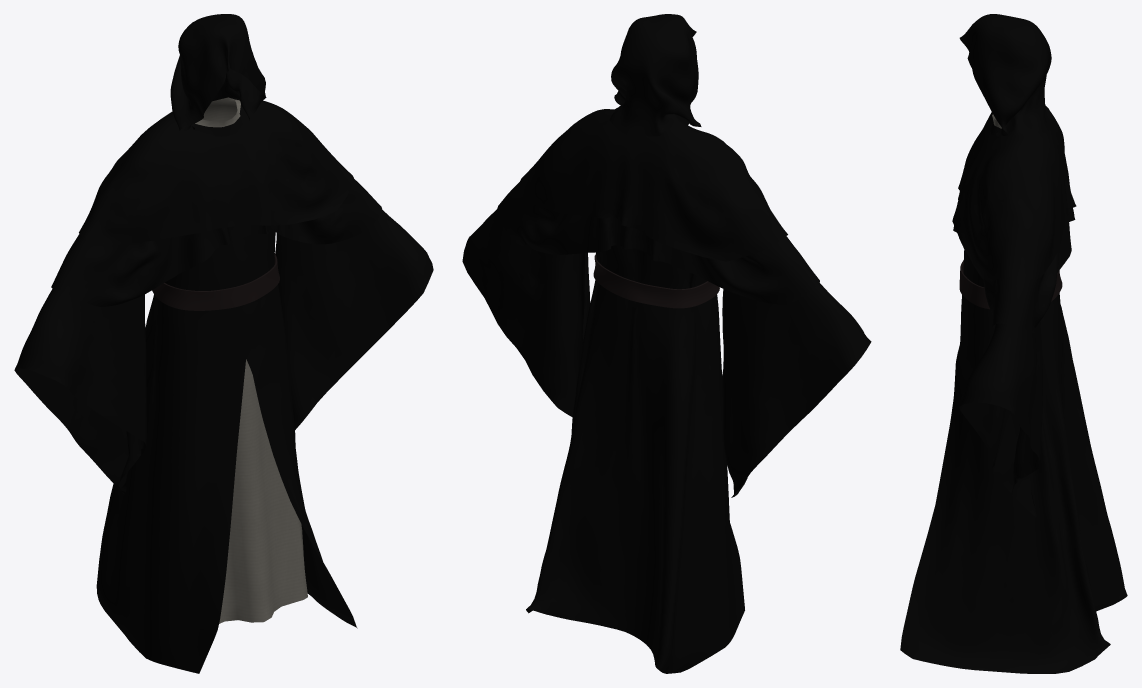
The model's file is wizard.glb.
3 renders of one model, left to right at view 1: azimuth 30°, elevation 25°; view 2: azimuth 150°, elevation 25°; view 3: azimuth 270°, elevation 25°, orthographic. The views are drawn at different scales.
Parts seen in each view (by area): view 1: outer_dress, top_cape, inner_dress, bottom_cape, belt; view 2: outer_dress, top_cape, bottom_cape, belt; view 3: outer_dress, top_cape, bottom_cape, belt.
Part boxes in pixels (box(x1,y1,x2,y2)): outer_dress: box(14, 97, 433, 673); top_cape: box(79, 14, 353, 244); inner_dress: box(195, 97, 307, 623); bottom_cape: box(51, 179, 381, 306); belt: box(152, 253, 279, 310); outer_dress: box(462, 119, 871, 673); top_cape: box(519, 14, 787, 261); bottom_cape: box(497, 182, 819, 304); belt: box(593, 254, 719, 308); outer_dress: box(900, 121, 1127, 673); top_cape: box(952, 14, 1076, 280); bottom_cape: box(953, 208, 1075, 333); belt: box(959, 260, 1062, 309).
Bounding box in the file's own units: 131 × 193 × 63.51.
Materials: 6 (6 with a texture image).
